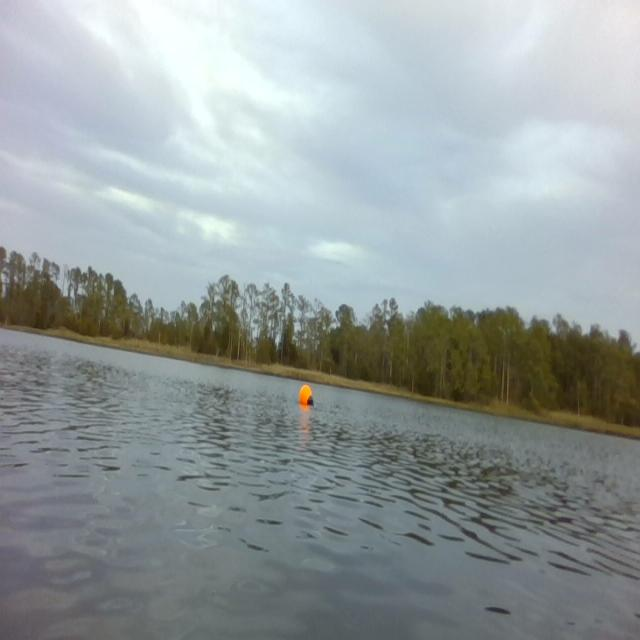Buoy: (299, 382, 314, 409)
